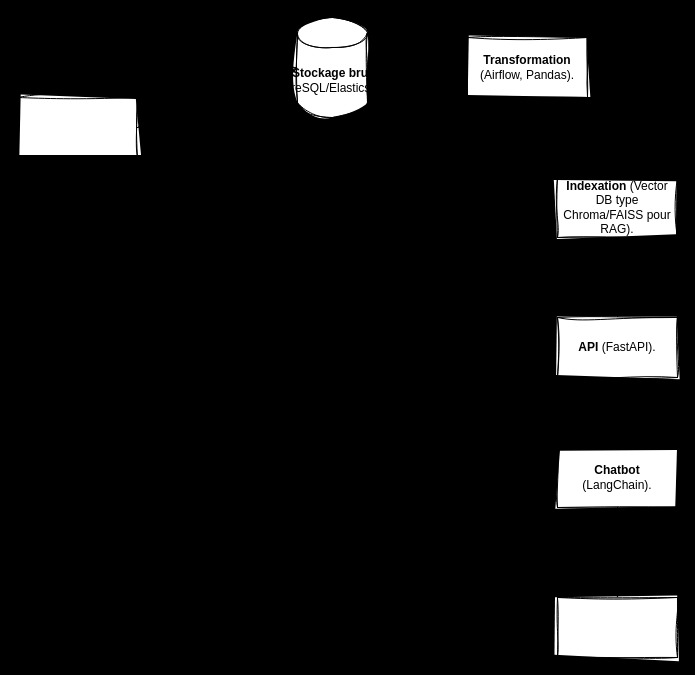
The diagram is 695 pixels wide and 675 high, and some of its shapes have lost their labels. The shapes that lost their labels are listed below. From the top down, each one's box as (x1, y1, x2, y2) in pixels, then its label:
(16, 96, 138, 158): Ingestion (Python, API/CSV/PDF → Docker).
(556, 596, 678, 658): Interface (Streamlit).
